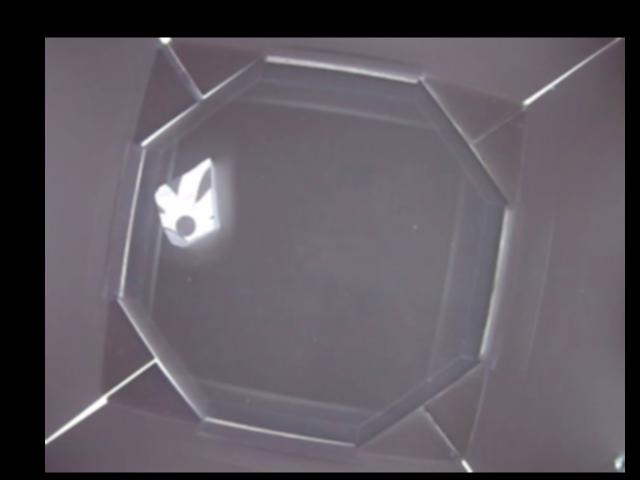China: (151, 157, 220, 243)
